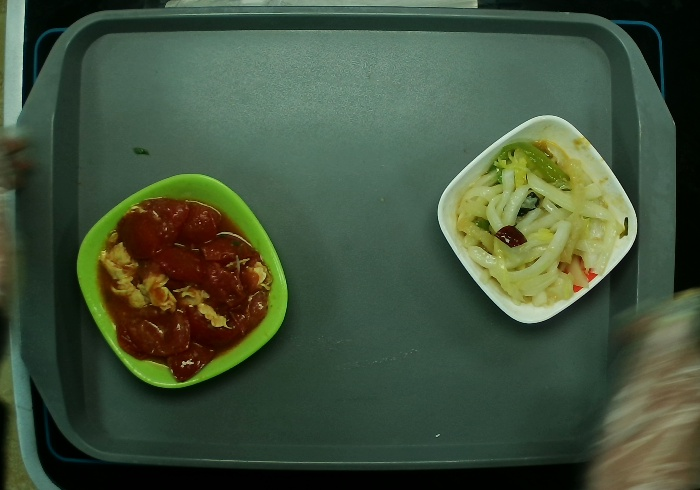SHKJ-Bai_Se_Xiao_Fang_Die: (433, 112, 642, 330)
SHKJ-Lv_Se_Cai_Die: (75, 170, 294, 390)
